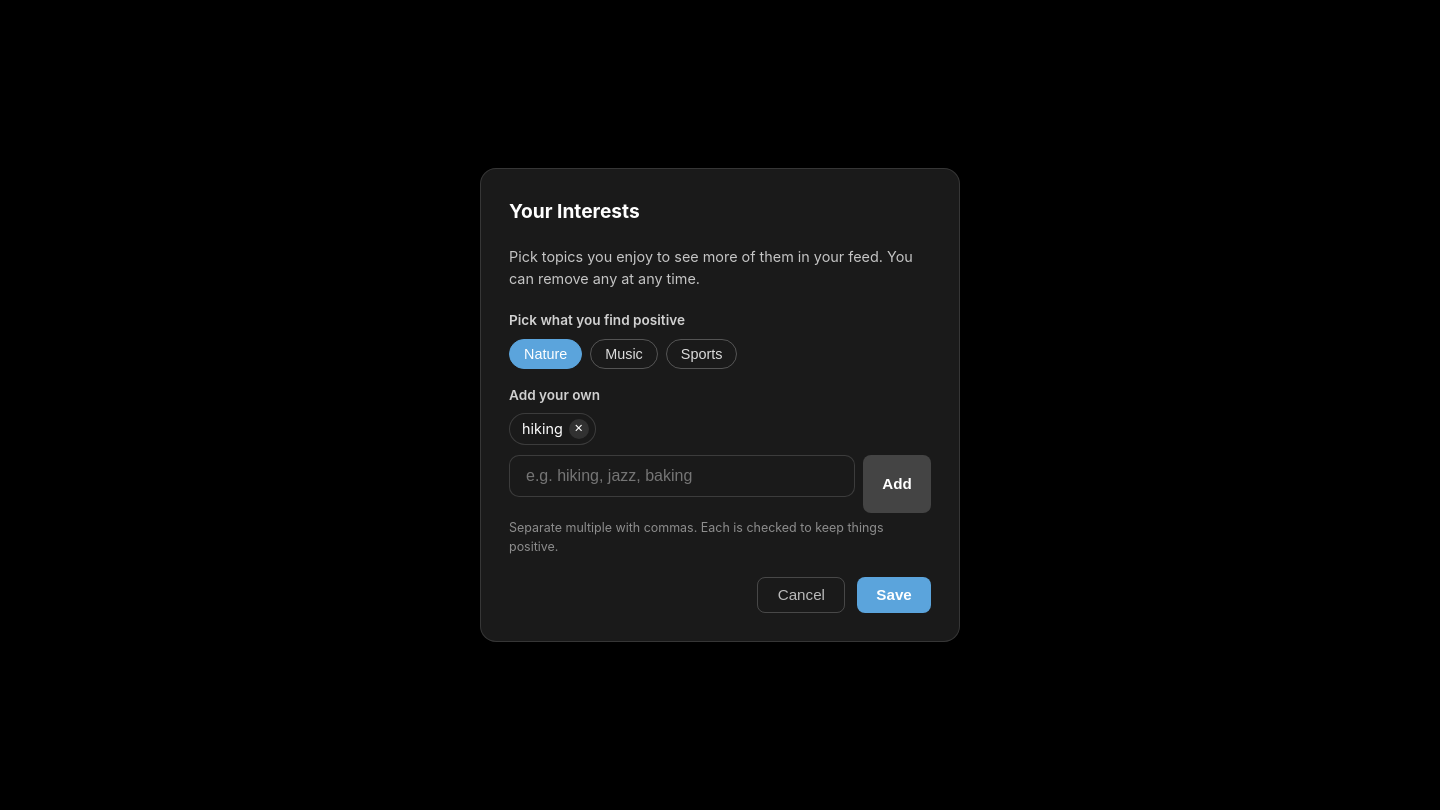
Test: shows rejected freeform terms and keeps the dialog open
The width and height of the screenshot is (1440, 810).
expect the button "Nature" is shown: met, box left=509, top=339, right=582, bottom=369
Type "bad vibes" into the field.
click(682, 476); type("bad vibes")  # box left=509, top=455, right=855, bottom=497
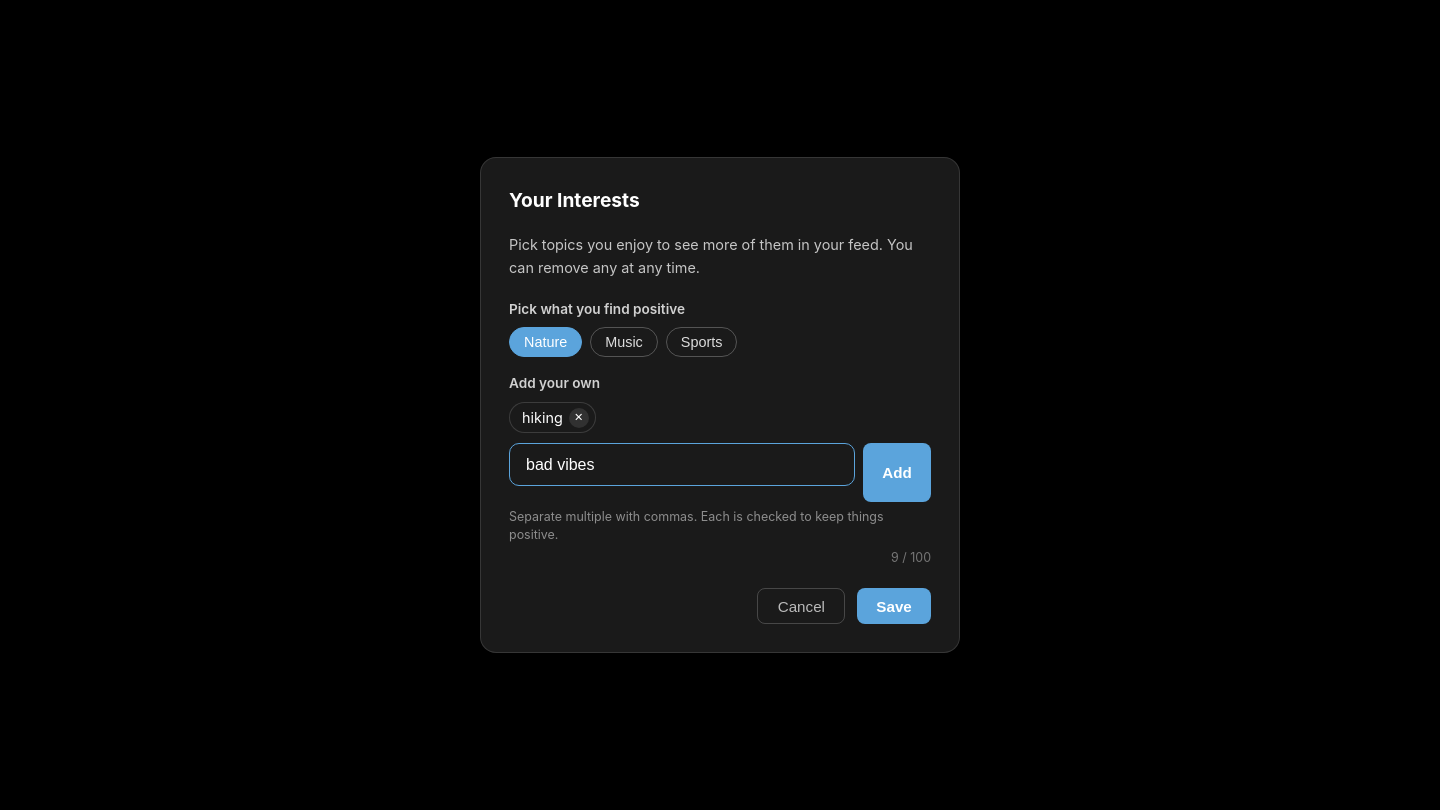
Click the button "Add".
click(897, 473)  # box left=863, top=443, right=931, bottom=502
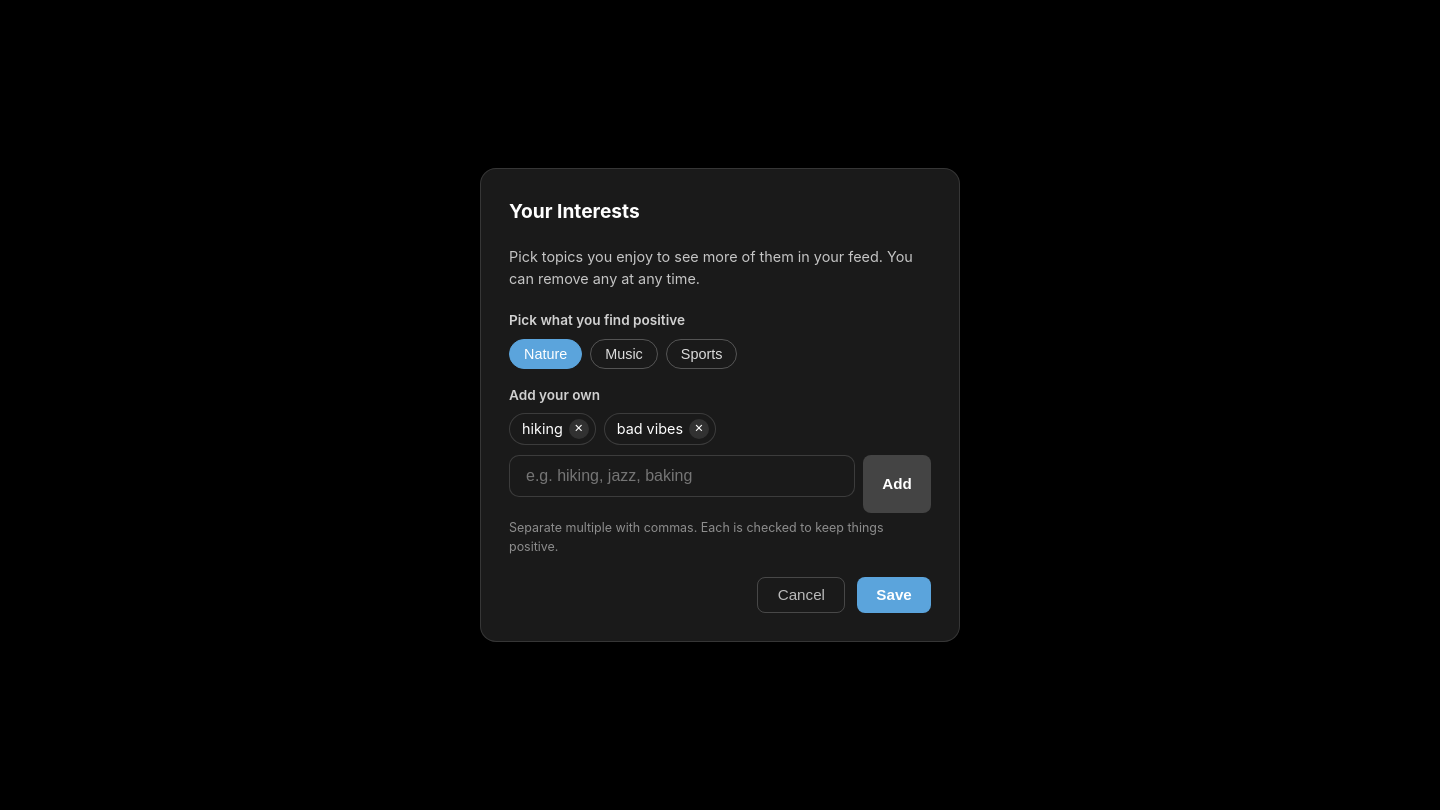
Click the button "Save".
click(894, 595)  # box left=857, top=576, right=931, bottom=613
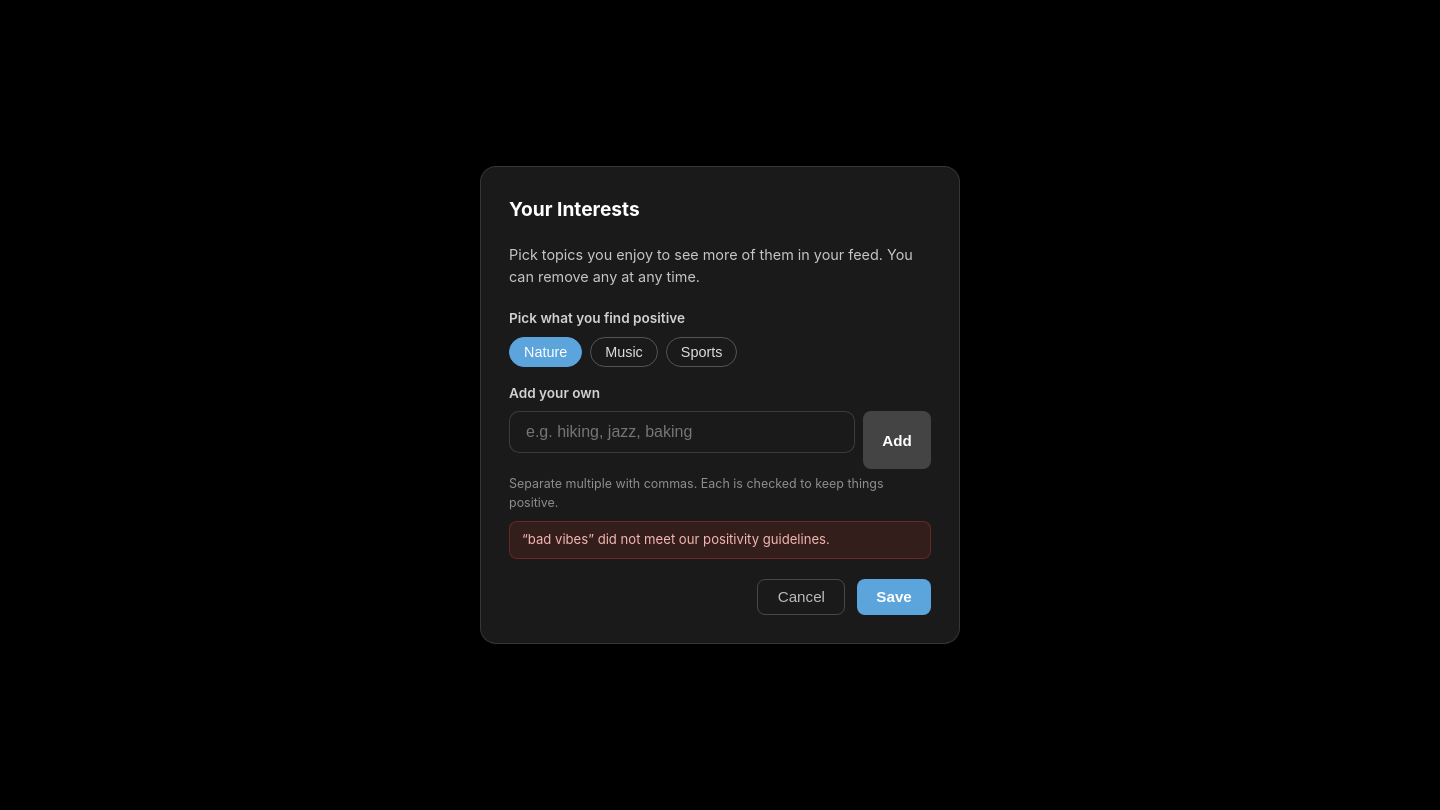
expect the message shows "bad vibes": met, box left=528, top=531, right=588, bottom=547
